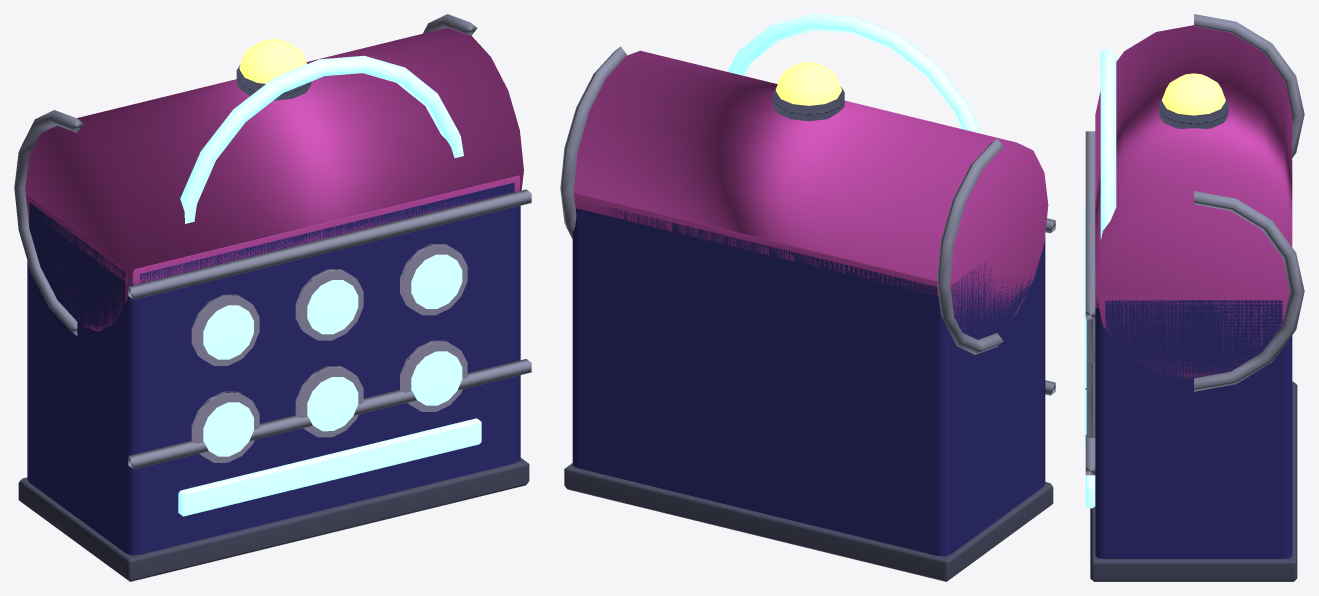
Rendered from heal_machine.glb.
3 renders of one model, left to right at view 1: azimuth 30°, elevation 25°; view 2: azimuth 150°, elevation 25°; view 3: azimuth 270°, elevation 25°, orthographic. The views are drawn at different scales.
Visible parts, largest first — view 1: Healer; view 2: Healer; view 3: Healer.
Part boxes in pixels (left/top/right/bottom): Healer: left=14, top=14, right=531, bottom=581; Healer: left=560, top=14, right=1055, bottom=581; Healer: left=1084, top=14, right=1304, bottom=581.
Bounding box in the file's own units: 1.76 × 1.93 × 0.895.
